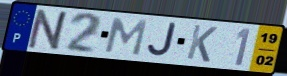1: (234, 28, 252, 67)
2: (64, 12, 104, 55)
J: (146, 21, 178, 59)
K: (184, 23, 219, 64)
M: (102, 16, 150, 58)
N: (25, 8, 73, 53)
